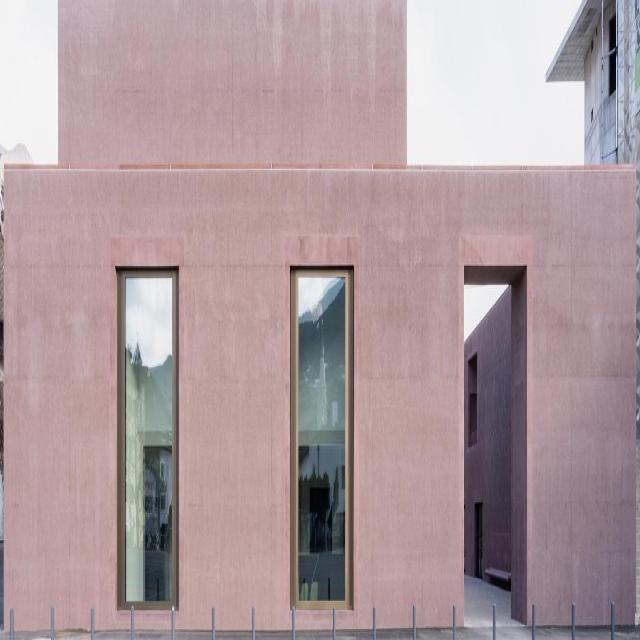wall: (3, 0, 637, 640)
windows: (116, 286, 174, 617), (294, 267, 349, 614)
